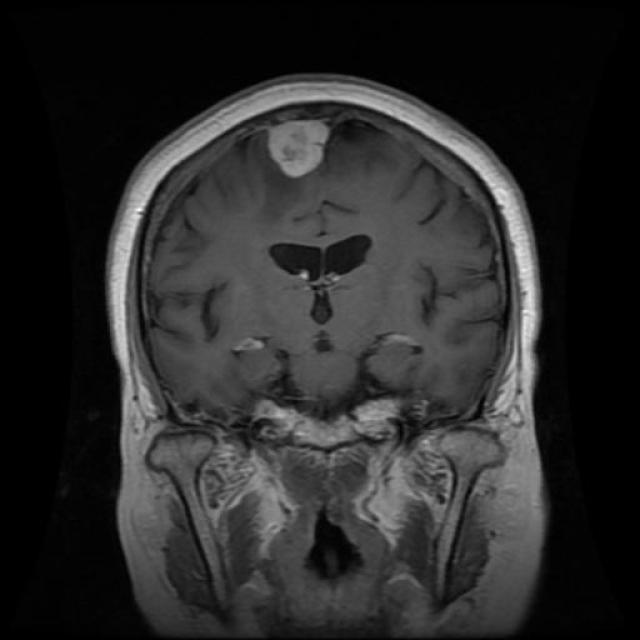meningioma: (269, 121, 329, 179)
